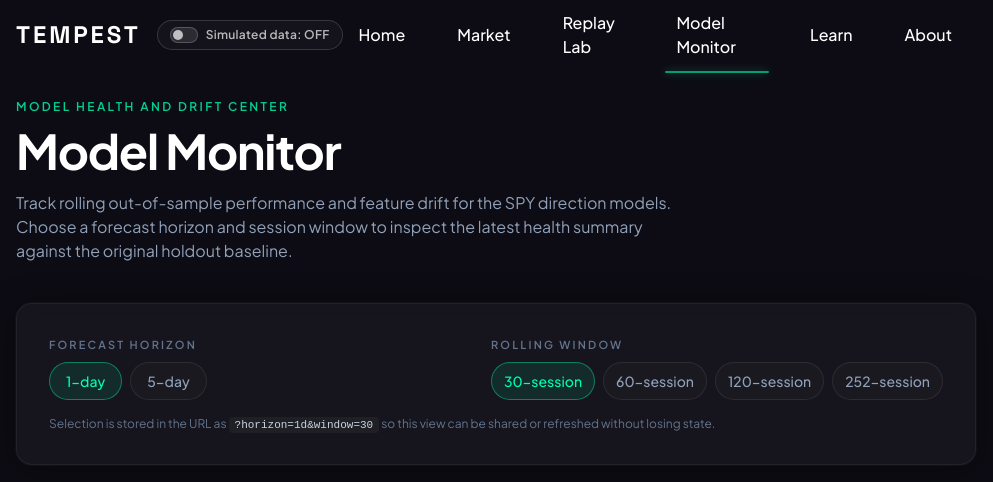
Test case: ModelMonitorPage › persists the 252-session window in the URL
Click the radio button labelled "252-session". click: (888, 381)
box: [832,362,943,400]
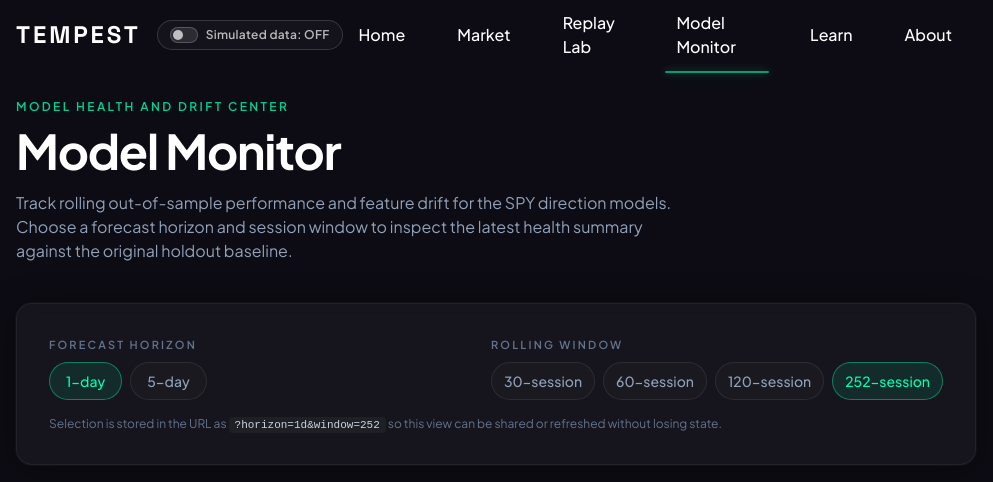
Check: the text "?horizon=1d&window=252" is shown, box [228,417,386,433]
